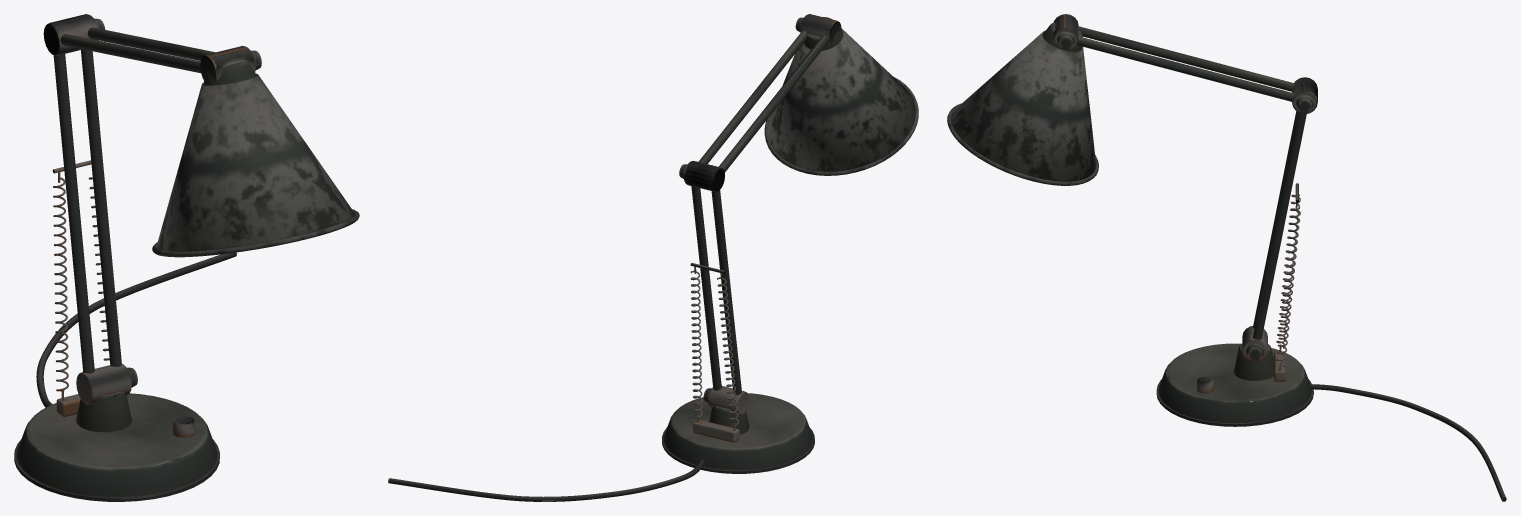
The model's file is DeskLamp.fbx.
3 renders of one model, left to right at view 1: azimuth 30°, elevation 25°; view 2: azimuth 150°, elevation 25°; view 3: azimuth 270°, elevation 25°, orthographic. The views are drawn at different scales.
Parts seen in each view (by area): view 1: DeskLamp_Mesh; view 2: DeskLamp_Mesh; view 3: DeskLamp_Mesh.
Boxes of the visible parts, x1,y1,x2,y2 form: DeskLamp_Mesh: (14,14,359,501); DeskLamp_Mesh: (388,14,918,501); DeskLamp_Mesh: (947,14,1506,501).
Bounding box in the file's own units: 34.11 × 41.3 × 56.2.
2 materials, 1 textured.
